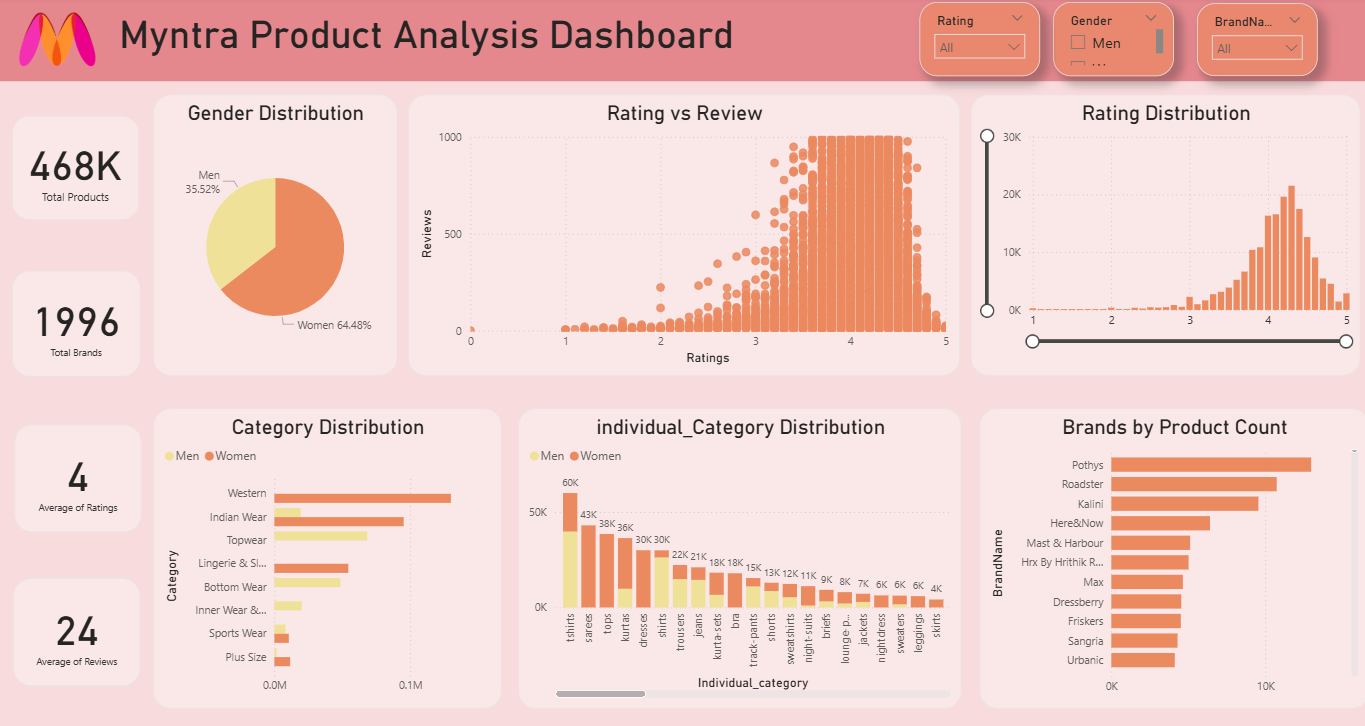

The dashboard page shown, as its layout file describes it:
{"tool":"powerbi","page":{"name":"Page 1","canvas":[1538,825],"ordinal":0},"visuals":[{"type":"textbox","box":[0,0,1538.6,94.2],"z":0},{"type":"image","box":[5.2,13,124.7,70.1],"z":1000},{"type":"pieChart","title":"Gender Distribution ","fields":{"Y":["cleaned_myntradata2.category_by_Gender"],"Category":["cleaned_myntradata2.category_by_Gender"]},"box":[174.6,109.9,273.2,315.5],"z":2000},{"type":"clusteredColumnChart","title":"Rating Distribution ","fields":{"Y":["cleaned_myntradata2.Ratings"],"Category":["cleaned_myntradata2.Ratings"]},"box":[1091.5,109.9,436.6,315.5],"z":3000},{"type":"clusteredBarChart","title":"Brands by Product Count ","fields":{"Y":["cleaned_myntradata2.BrandName"],"Category":["cleaned_myntradata2.BrandName"]},"box":[1101.4,460.6,436.6,336.6],"z":4000},{"type":"clusteredBarChart","title":"Category Distribution ","fields":{"Y":["cleaned_myntradata2.Category"],"Category":["cleaned_myntradata2.Category"],"Series":["cleaned_myntradata2.category_by_Gender"]},"box":[174.6,460.6,390.1,336.6],"z":5000},{"type":"columnChart","title":"individual_Category Distribution ","fields":{"Category":["cleaned_myntradata2.Individual_category"],"Y":["cleaned_myntradata2.Individual_category"],"Series":["cleaned_myntradata2.category_by_Gender"]},"box":[584.5,460.6,497.2,336.6],"z":6000},{"type":"card","fields":{"Values":["cleaned_myntradata2.Product_id"]},"box":[16.9,133.8,142.3,116.9],"z":7000},{"type":"card","fields":{"Values":["cleaned_myntradata2.BrandName"]},"box":[16.9,307,143.7,118.3],"z":8000},{"type":"card","fields":{"Values":["cleaned_myntradata2.Ratings"]},"box":[19.7,478.9,142.3,121.1],"z":9000},{"type":"scatterChart","title":"Rating vs Review","fields":{"X":["cleaned_myntradata2.Ratings"],"Y":["cleaned_myntradata2.Reviews"]},"box":[460.6,109.9,618.3,315.5],"z":10000},{"type":"slicer","fields":{"Values":["cleaned_myntradata2.BrandName"]},"box":[1345.1,7,135.2,81.7],"z":11000},{"type":"slicer","fields":{"Values":["cleaned_myntradata2.category_by_Gender"]},"box":[1184.5,5.6,135.2,83.1],"z":12000},{"type":"slicer","fields":{"Values":["cleaned_myntradata2.Ratings"]},"box":[1033.8,5.6,135.2,83.1],"z":13000},{"type":"card","fields":{"Values":["cleaned_myntradata2.Reviews"]},"box":[18.3,652.1,142.3,121.1],"z":14000}]}

Visuals, with their boxes in screenshot pixels (x1, y1, x2, y2), scaled from the page's 1538x825 canvas onto the 1365x726 screenshot:
textbox: detection(0, 0, 1364, 83)
image: detection(5, 11, 115, 73)
"Gender Distribution " pieChart: detection(155, 97, 397, 374)
"Rating Distribution " clusteredColumnChart: detection(969, 97, 1356, 374)
"Brands by Product Count " clusteredBarChart: detection(978, 405, 1364, 702)
"Category Distribution " clusteredBarChart: detection(155, 405, 501, 702)
"individual_Category Distribution " columnChart: detection(519, 405, 960, 702)
card - cleaned_myntradata2.Product_id: detection(15, 118, 141, 221)
card - cleaned_myntradata2.BrandName: detection(15, 270, 143, 374)
card - cleaned_myntradata2.Ratings: detection(17, 421, 144, 528)
"Rating vs Review" scatterChart: detection(409, 97, 958, 374)
slicer - cleaned_myntradata2.BrandName: detection(1194, 6, 1314, 78)
slicer - cleaned_myntradata2.category_by_Gender: detection(1051, 5, 1171, 78)
slicer - cleaned_myntradata2.Ratings: detection(918, 5, 1038, 78)
card - cleaned_myntradata2.Reviews: detection(16, 574, 143, 680)
